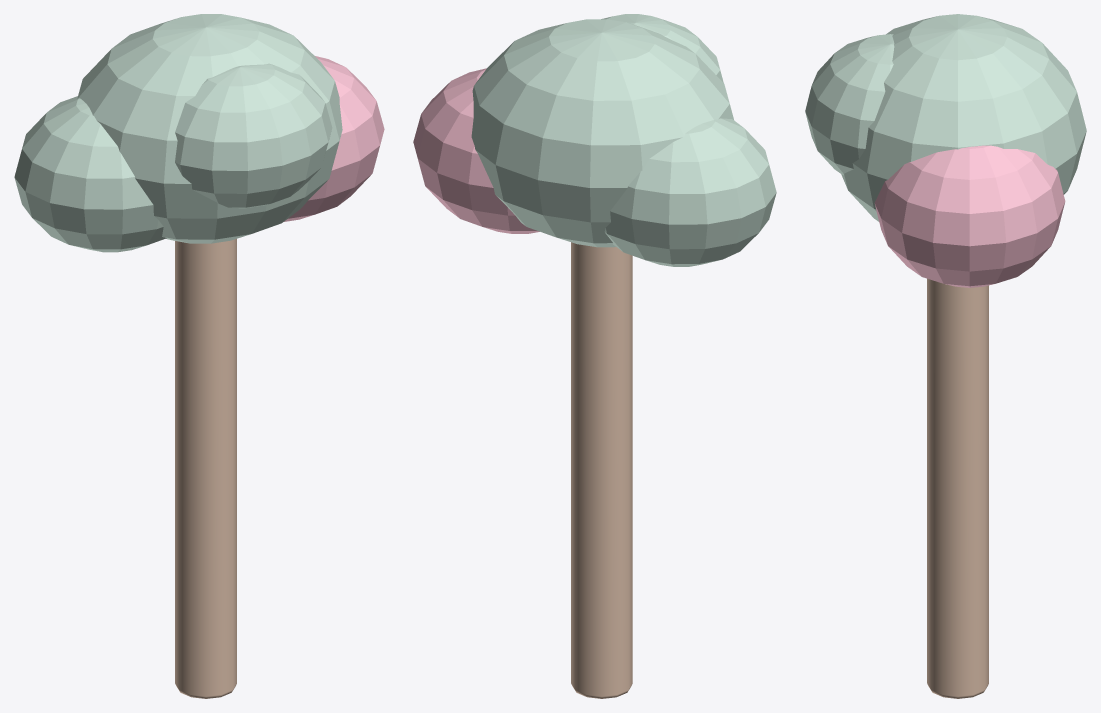
The model's file is Tree.fbx.
3 views of the same model, side by side, from view 1: azimuth 30°, elevation 25°; view 2: azimuth 150°, elevation 25°; view 3: azimuth 270°, elevation 25° (orthographic).
Parts seen in each view (by area): view 1: Trunk, Canopy00, Canopy03, Canopy01, Canopy02; view 2: Canopy00, Trunk, Canopy01, Canopy02, Canopy03; view 3: Canopy00, Trunk, Canopy02, Canopy03.
Boxes of the visible parts, bbox=[...] form: Trunk: bbox=[175, 239, 236, 698]; Canopy00: bbox=[77, 14, 342, 243]; Canopy03: bbox=[175, 63, 332, 208]; Canopy01: bbox=[14, 96, 166, 252]; Canopy02: bbox=[284, 56, 384, 221]; Canopy00: bbox=[471, 19, 733, 247]; Trunk: bbox=[571, 242, 632, 698]; Canopy01: bbox=[604, 118, 776, 266]; Canopy02: bbox=[413, 68, 539, 233]; Canopy03: bbox=[601, 14, 723, 82]; Canopy00: bbox=[841, 14, 1086, 221]; Trunk: bbox=[927, 278, 988, 698]; Canopy02: bbox=[874, 145, 1065, 287]; Canopy03: bbox=[805, 34, 894, 175].
Size of the model in its own units: 206 by 376 by 146.
